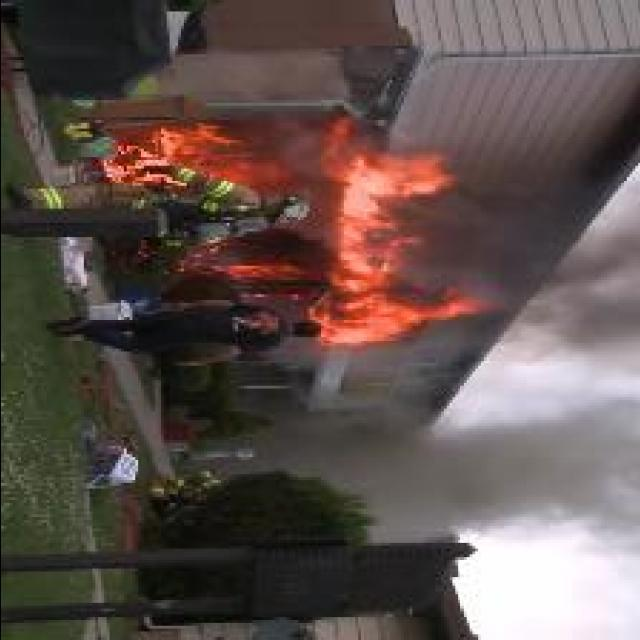Fire: (304, 117, 496, 349), (101, 127, 288, 190)
